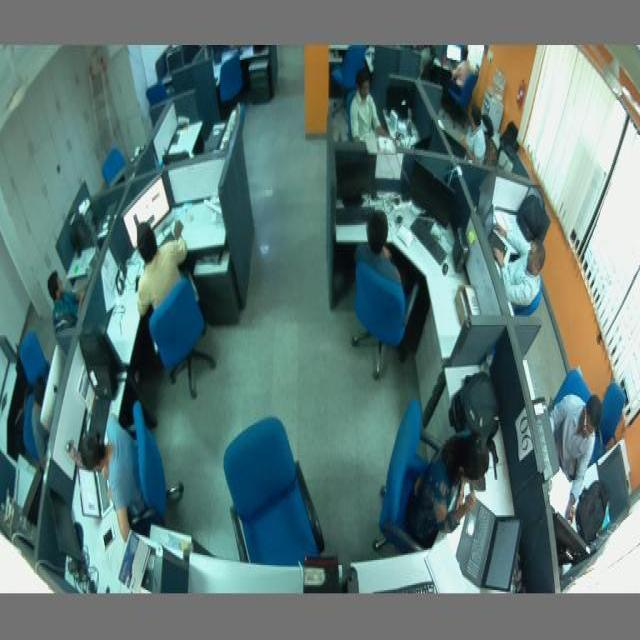chair: (223, 414, 327, 576), (346, 261, 421, 379), (146, 282, 220, 396), (375, 398, 426, 554), (131, 398, 185, 528), (598, 383, 631, 442), (548, 368, 596, 408), (16, 329, 51, 381), (332, 47, 367, 96), (16, 395, 40, 457), (218, 58, 245, 104), (103, 143, 129, 184), (512, 286, 546, 316), (449, 70, 476, 107), (146, 81, 168, 106)
keyboard: (411, 217, 448, 265), (336, 202, 376, 225), (375, 580, 440, 593)
laptop: (456, 497, 521, 591), (74, 468, 116, 518)
monitor: (407, 159, 470, 243), (122, 173, 170, 252), (48, 489, 84, 563), (334, 147, 378, 198), (479, 169, 498, 218), (442, 46, 463, 62)
person: (410, 430, 490, 545), (80, 415, 142, 540), (546, 390, 602, 523), (356, 205, 411, 310), (136, 218, 190, 315), (492, 220, 546, 305), (349, 67, 384, 140), (46, 268, 84, 322), (460, 102, 490, 166), (32, 365, 50, 468)
phone: (98, 528, 116, 549)
